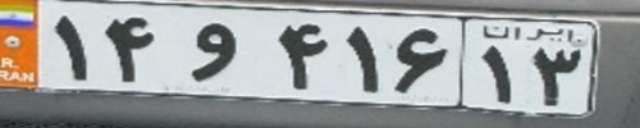1: (341, 26, 378, 92), (52, 15, 87, 79), (478, 44, 511, 103)
3: (532, 47, 582, 106)
4: (276, 23, 327, 89), (105, 16, 155, 81)
6: (394, 27, 448, 93)
vav: (190, 23, 237, 81)
